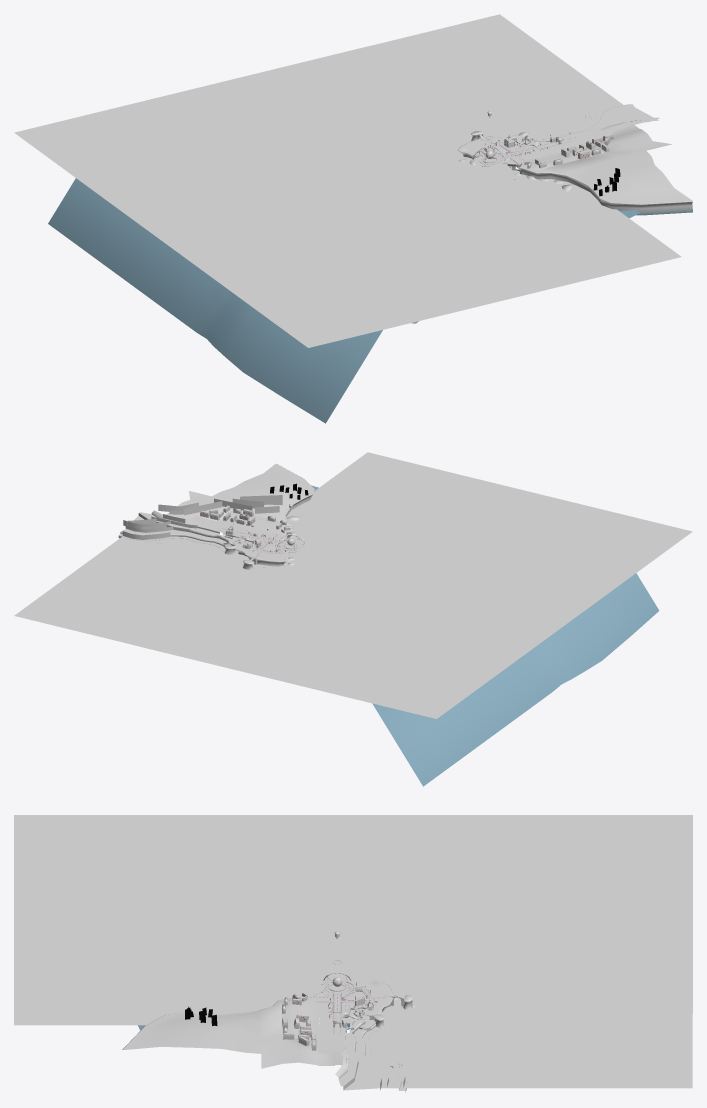
File: candela_city_track.glb
The picture shows the model from 3 angles, top to bottom: view 1: azimuth 30°, elevation 25°; view 2: azimuth 150°, elevation 25°; view 3: azimuth 270°, elevation 25°; orthographic projection. The views are drawn at different scales.
Parts seen in each view (by area): view 1: candela_city_track; view 2: candela_city_track; view 3: candela_city_track.
Boxes of the visible parts, <box> form: candela_city_track: <box>14,14,692,423</box>; candela_city_track: <box>14,452,692,786</box>; candela_city_track: <box>14,815,692,1092</box>.
Bounding box in the file's own units: 3007 × 851 × 3094.
